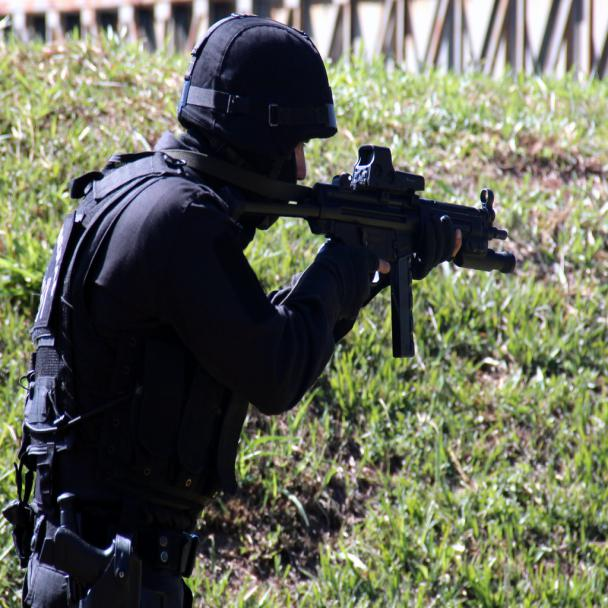Gun: (232, 142, 519, 362)
Hand: (179, 228, 391, 421), (420, 217, 468, 290)
